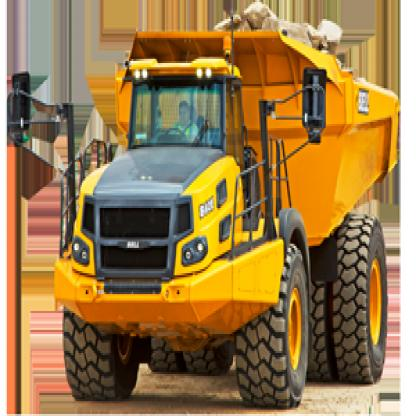dump_truck: (18, 2, 398, 412)
